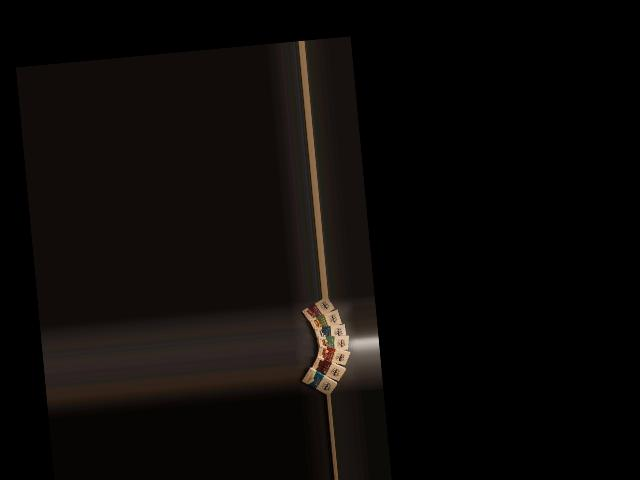chocolate: (298, 364, 339, 396)
